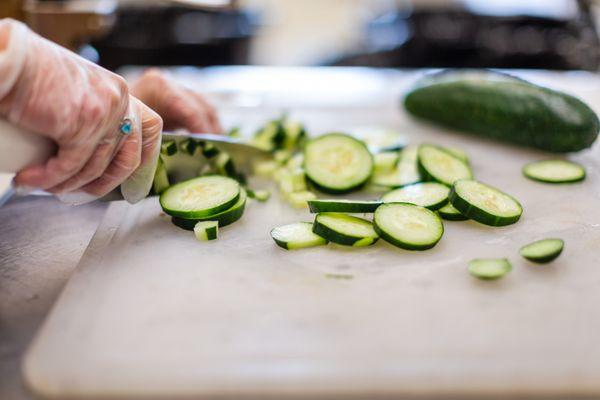pizza: (0, 14, 226, 204)
